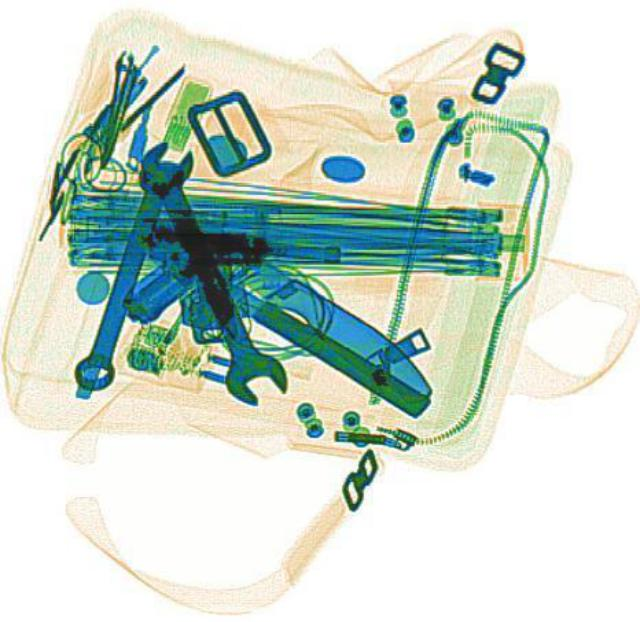Gun: (118, 215, 342, 345)
Knife: (134, 222, 432, 416), (186, 197, 440, 413)
Wrench: (124, 150, 292, 410), (57, 136, 196, 394)
